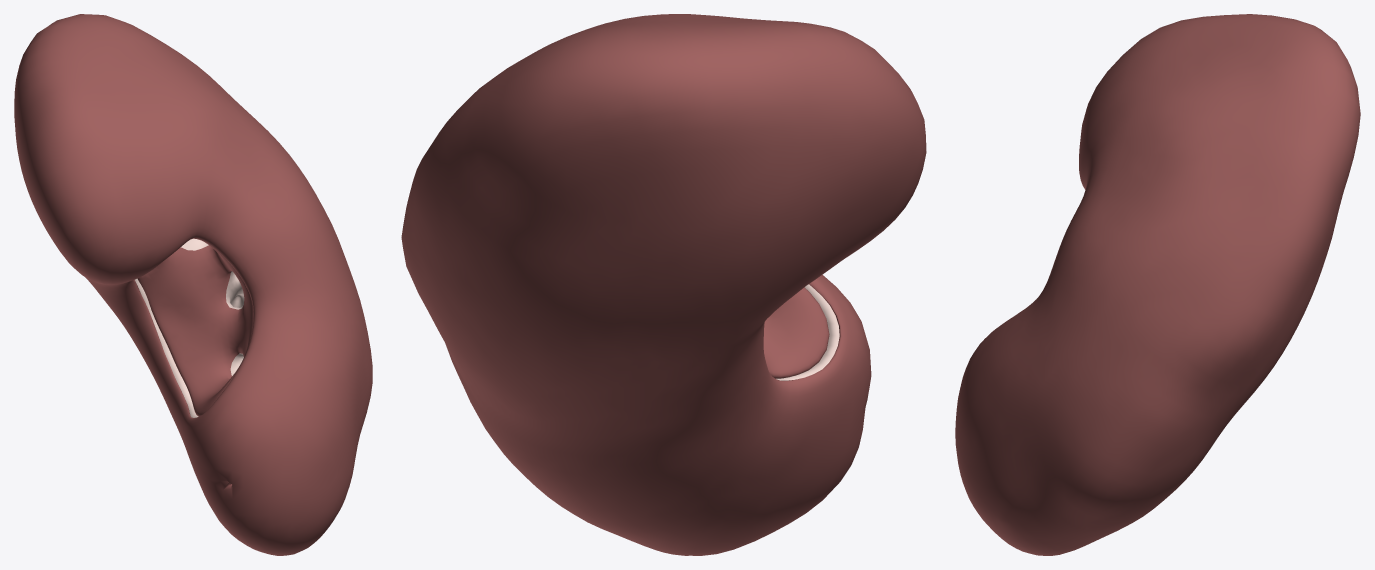
Rendered from kidney.glb.
The picture shows the model from 3 angles, left to right: view 1: azimuth 30°, elevation 25°; view 2: azimuth 150°, elevation 25°; view 3: azimuth 270°, elevation 25°; orthographic projection. The views are drawn at different scales.
Visible parts, largest first — view 1: VH_M_kidney_capsule_L, VH_M_renal_column_L; view 2: VH_M_kidney_capsule_L, VH_M_renal_column_L; view 3: VH_M_kidney_capsule_L.
Part boxes in pixels (x1,y1,x2,y2): VH_M_kidney_capsule_L: (14, 14, 372, 555); VH_M_renal_column_L: (135, 238, 244, 417); VH_M_kidney_capsule_L: (401, 14, 926, 555); VH_M_renal_column_L: (776, 284, 839, 380); VH_M_kidney_capsule_L: (955, 14, 1360, 555).
Bounding box in the file's own units: 0.0757 × 0.1065 × 0.0824.
